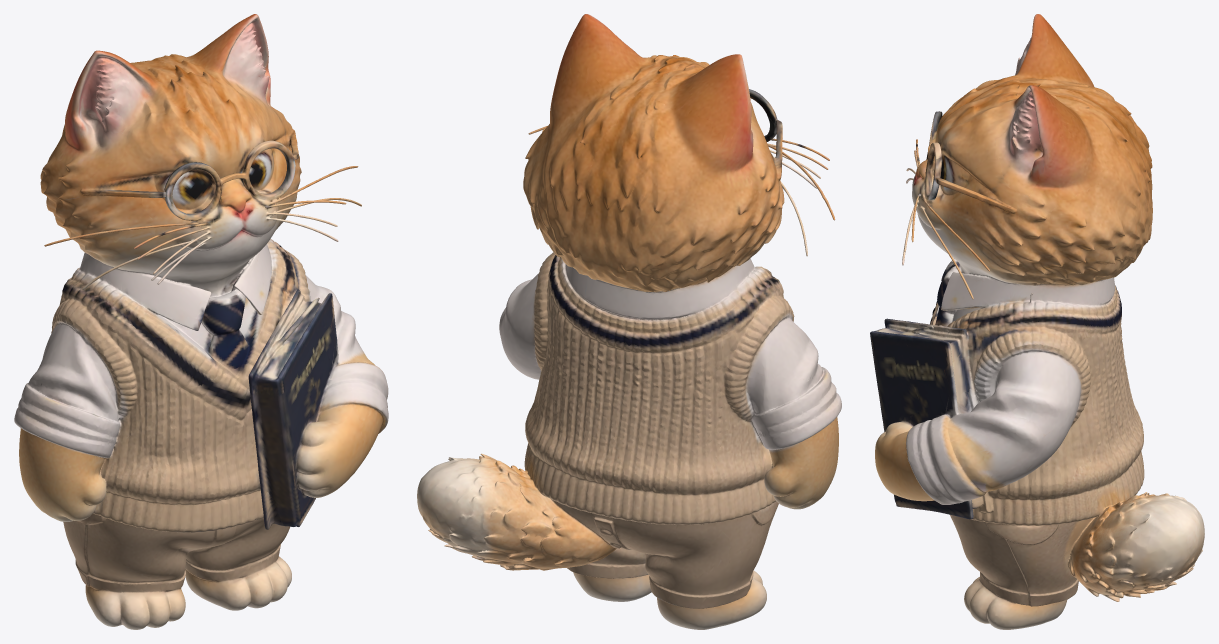
Rendered from cat-teacher.glb.
3 views of the same model, side by side, from view 1: azimuth 30°, elevation 25°; view 2: azimuth 150°, elevation 25°; view 3: azimuth 270°, elevation 25° (orthographic). The views are drawn at different scales.
Visible parts, largest first — view 1: Body, Face_neutral; view 2: Body, Face_neutral; view 3: Body, Face_neutral.
Part boxes in pixels (bbox=[...]): Body: bbox=[14, 246, 388, 629]; Face_neutral: bbox=[40, 14, 361, 305]; Body: bbox=[417, 252, 841, 629]; Face_neutral: bbox=[523, 14, 835, 307]; Body: bbox=[870, 264, 1204, 629]; Face_neutral: bbox=[902, 14, 1152, 320].
Bounding box in the file's own units: 0.3515 × 0.5691 × 0.3199.
1 material, 1 textured.
